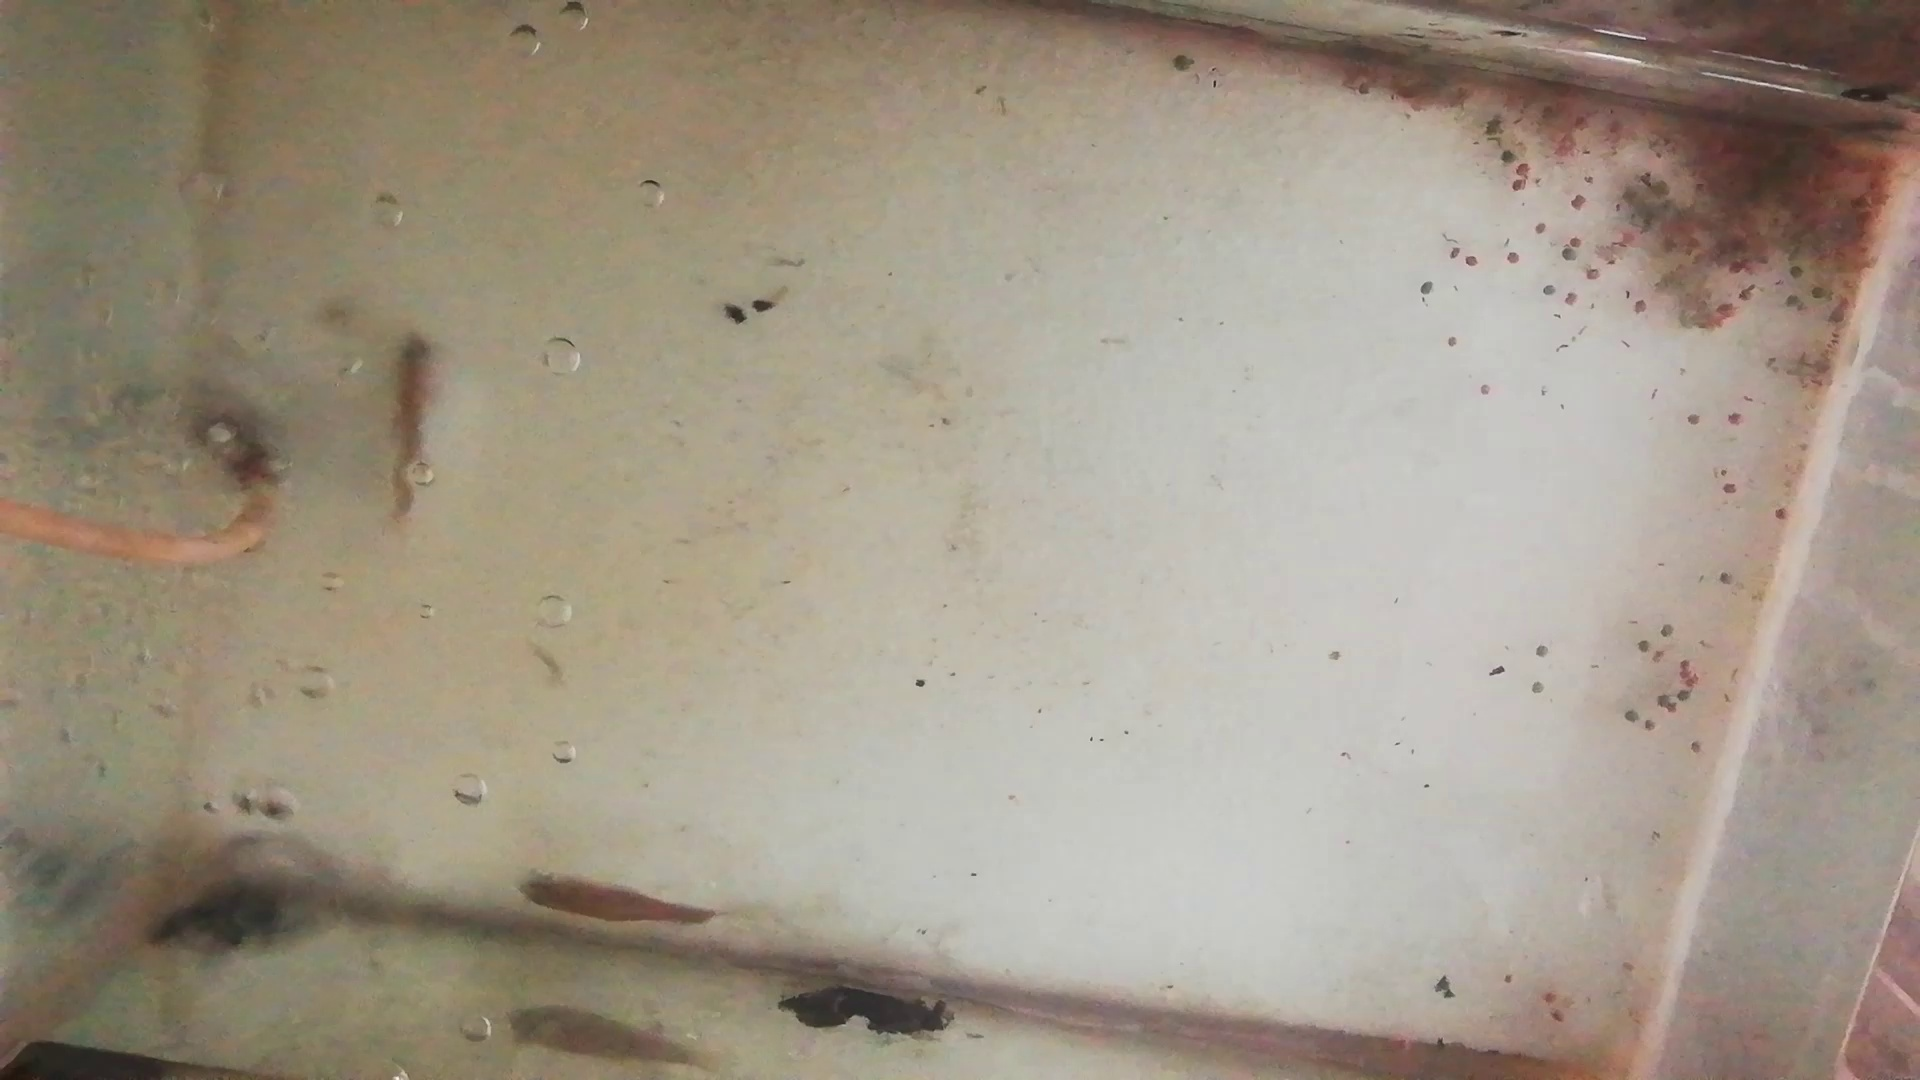fish: (520, 870, 723, 926), (382, 335, 440, 524)
